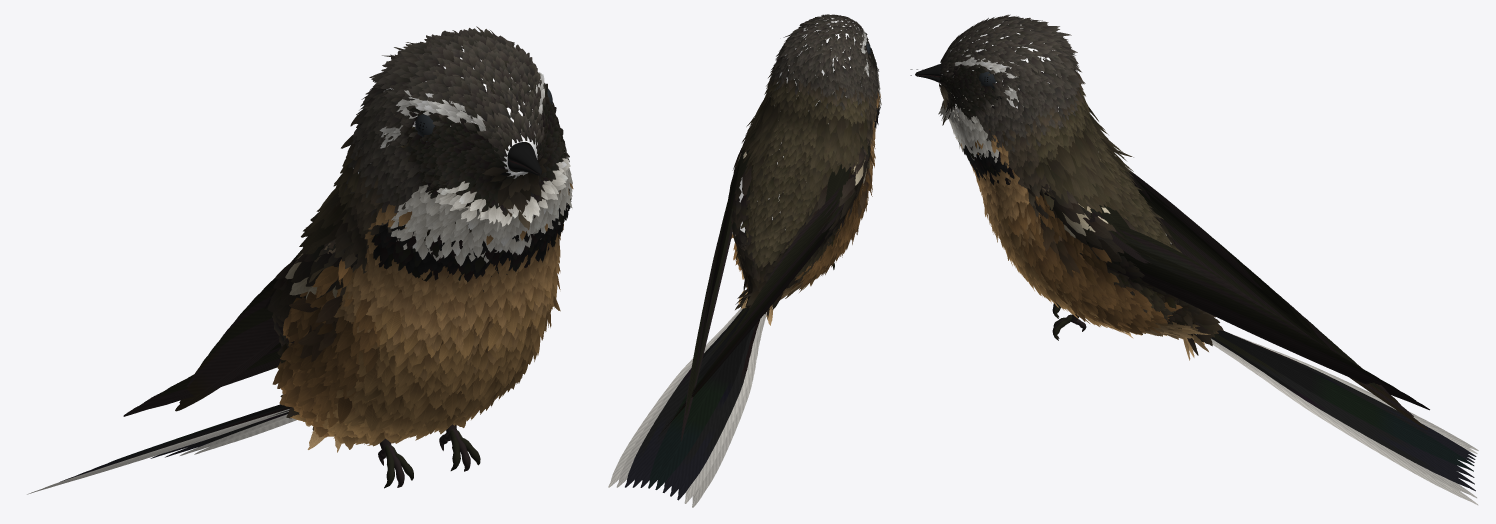
Rendered from manu-piwakawaka.glb.
3 renders of one model, left to right at view 1: azimuth 30°, elevation 25°; view 2: azimuth 150°, elevation 25°; view 3: azimuth 270°, elevation 25°, orthographic. The views are drawn at different scales.
Parts seen in each view (by area): view 1: contour_feathers, wing_and_tail_feathers, legs_and_feet, bill; view 2: contour_feathers, wing_and_tail_feathers, body_skin; view 3: contour_feathers, wing_and_tail_feathers, legs_and_feet.
Part boxes in pixels (x1=…): contour_feathers: x1=272, y1=26, x2=573, y2=452; wing_and_tail_feathers: x1=27, y1=197, x2=543, y2=494; legs_and_feet: x1=378, y1=89, x2=552, y2=488; bill: x1=507, y1=142, x2=541, y2=175; contour_feathers: x1=731, y1=14, x2=881, y2=325; wing_and_tail_feathers: x1=608, y1=130, x2=870, y2=507; body_skin: x1=735, y1=17, x2=861, y2=235; contour_feathers: x1=938, y1=14, x2=1223, y2=360; wing_and_tail_feathers: x1=1027, y1=170, x2=1478, y2=505; legs_and_feet: x1=979, y1=71, x2=1086, y2=340.
Bounding box in the file's own units: 0.0579 × 0.1547 × 0.1742.
Materials: 4 (1 with a texture image).
